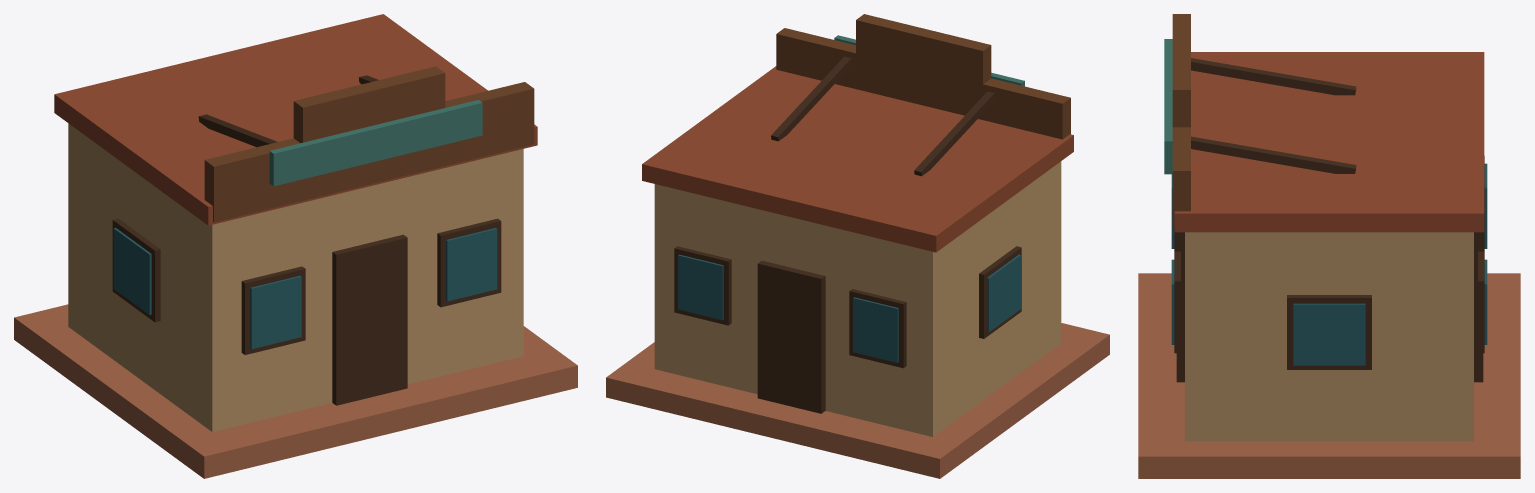
Rendered from Desert_Saloon_Simple.glb.
3 renders of one model, left to right at view 1: azimuth 30°, elevation 25°; view 2: azimuth 150°, elevation 25°; view 3: azimuth 270°, elevation 25°, orthographic. The views are drawn at different scales.
Visible parts, largest first — view 1: Desert_Saloon_Simple; view 2: Desert_Saloon_Simple; view 3: Desert_Saloon_Simple.
Part boxes in pixels (bbox=[...]): Desert_Saloon_Simple: bbox=[14, 14, 577, 478]; Desert_Saloon_Simple: bbox=[606, 14, 1109, 478]; Desert_Saloon_Simple: bbox=[1138, 14, 1520, 478].
Bounding box in the file's own units: 4.2 × 3.55 × 3.7.
